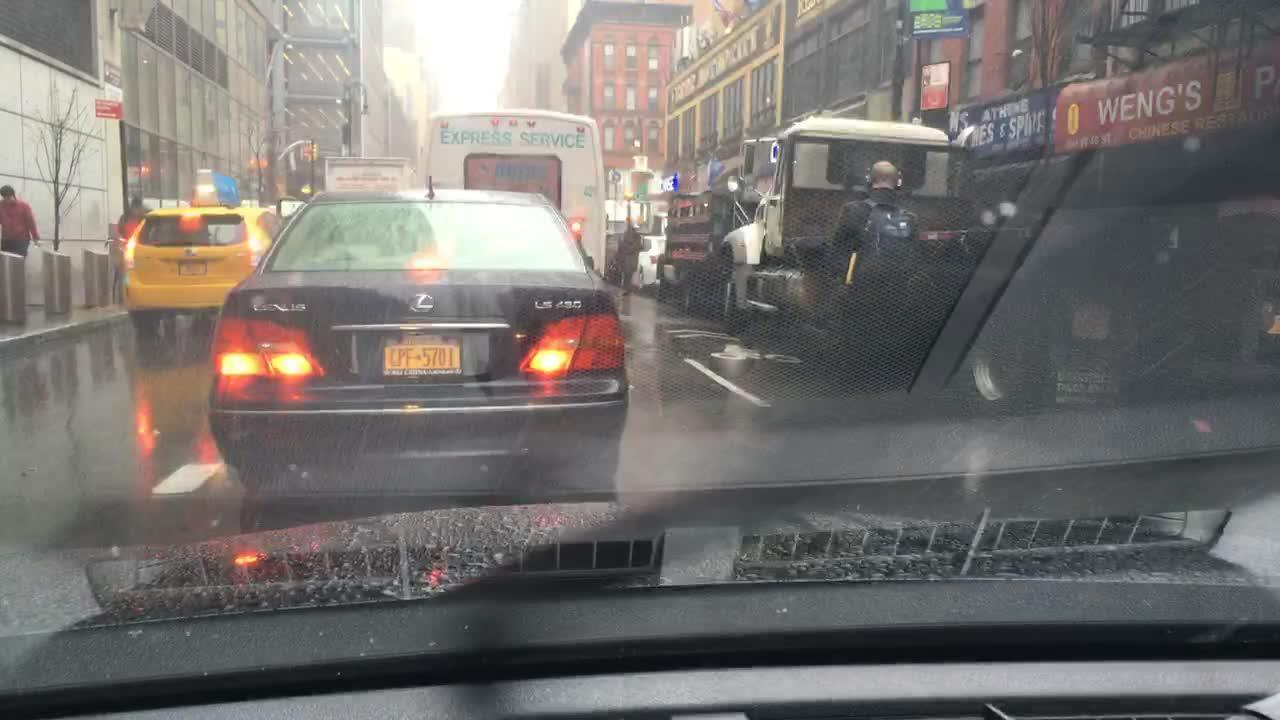lexus: (405, 289, 436, 319)
